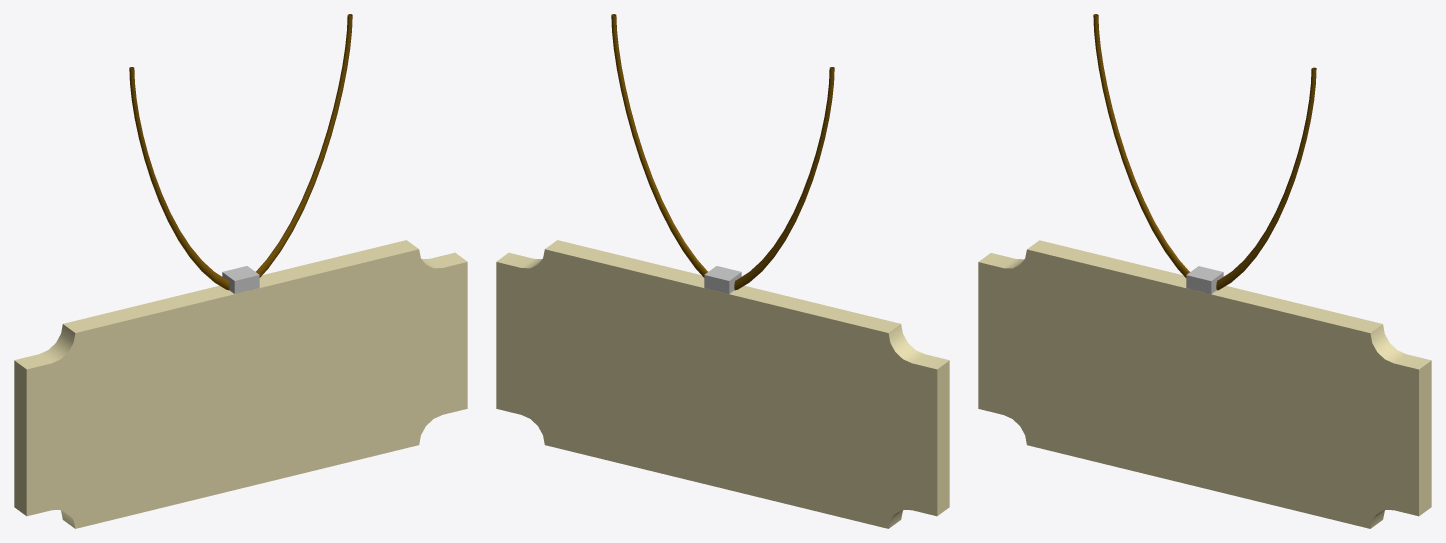
Rendered from Cartel_menu.fbx.
3 renders of one model, left to right at view 1: azimuth 30°, elevation 25°; view 2: azimuth 150°, elevation 25°; view 3: azimuth 330°, elevation 25°, orthographic.
Visible parts, largest first — view 1: pCube8, sweep1, pCube9; view 2: pCube8, sweep1, pCube9; view 3: pCube8, sweep1, pCube9.
Boxes of the visible parts, x1,y1,x2,y2 form: pCube8: (14,240,467,528); sweep1: (129,14,352,290); pCube9: (222,266,259,293); pCube8: (496,240,949,528); sweep1: (611,14,834,290); pCube9: (704,266,741,293); pCube8: (978,240,1431,528); sweep1: (1093,14,1316,290); pCube9: (1186,266,1223,294).
Size of the model in its own units: 8 by 7.64 by 0.3954.
